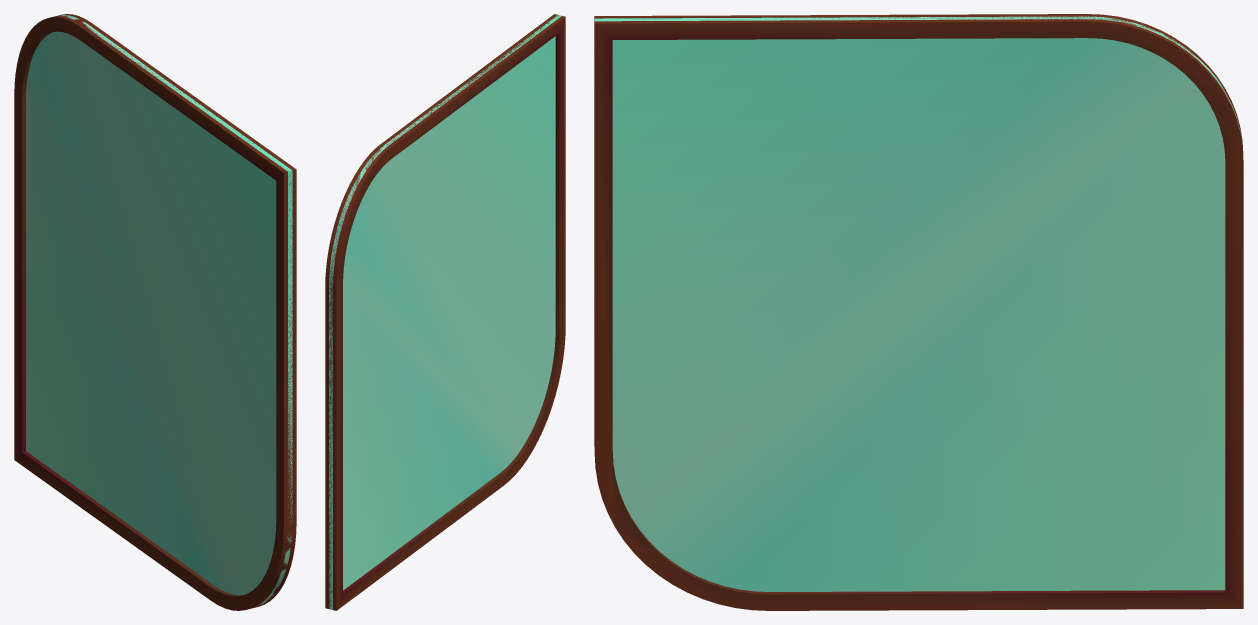
The picture shows the model from 3 angles, left to right: view 1: azimuth 30°, elevation 25°; view 2: azimuth 150°, elevation 25°; view 3: azimuth 270°, elevation 25°; orthographic projection. The views are drawn at different scales.
Parts seen in each view (by area): view 1: inset, rim; view 2: inset, rim; view 3: inset, rim.
Part boxes in pixels (x1,y1,x2,y2): inset: (26,15,292,604); rim: (14,14,296,610); inset: (329,15,561,609); rim: (325,14,565,610); inset: (594,16,1243,591); rim: (594,14,1243,610).
Size of the model in its own units: 0.019 by 0.5 by 0.5002.
